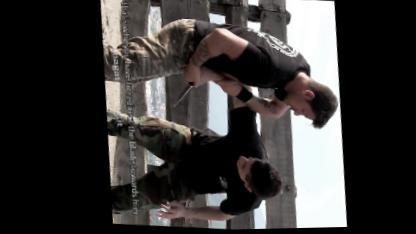knife: (162, 70, 202, 113)
